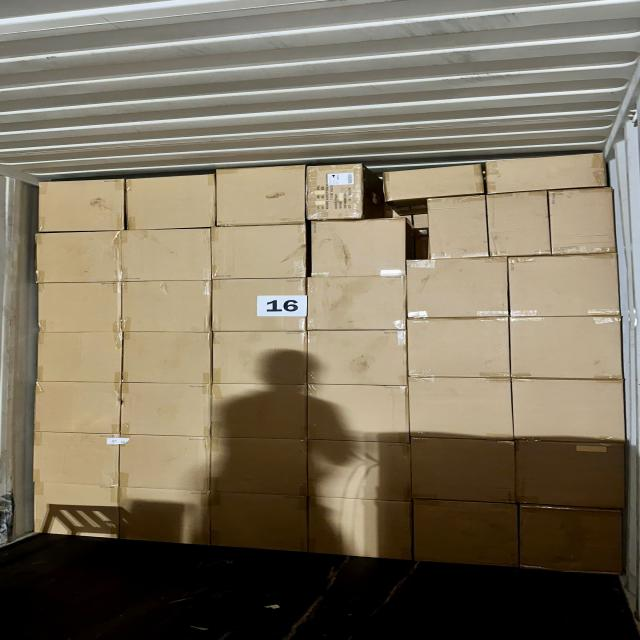Carton: (516, 441, 627, 511), (310, 498, 419, 568), (519, 506, 624, 578), (513, 380, 630, 444), (511, 315, 626, 380), (412, 500, 518, 570), (510, 255, 623, 320), (409, 438, 515, 504), (407, 376, 513, 441), (307, 441, 414, 503), (408, 318, 514, 380), (208, 493, 306, 557), (483, 150, 619, 196), (405, 260, 509, 320), (308, 383, 411, 443), (304, 329, 408, 387), (211, 438, 309, 499), (312, 217, 409, 277), (213, 165, 305, 228), (117, 487, 210, 549), (306, 274, 408, 330), (208, 383, 306, 440), (208, 226, 306, 282), (117, 433, 211, 491), (209, 330, 306, 386), (212, 276, 308, 332), (32, 482, 120, 542), (120, 382, 212, 439), (122, 230, 215, 285), (126, 174, 215, 231), (123, 278, 214, 333), (124, 331, 215, 386), (29, 433, 118, 488), (34, 381, 122, 435), (34, 331, 122, 384), (37, 180, 123, 234), (34, 232, 118, 286), (548, 188, 614, 256), (36, 280, 120, 332), (490, 189, 552, 258), (428, 195, 491, 260), (382, 164, 482, 202), (309, 167, 368, 224)
